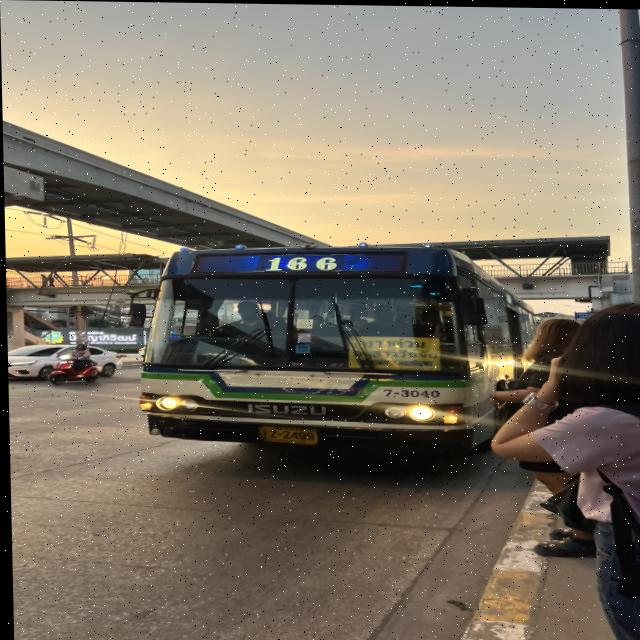BMTA-bus: (135, 244, 532, 457)
Bus Line Number: (258, 252, 346, 273)
Bus Side Number: (376, 386, 443, 399)
Destination Sign: (346, 336, 438, 367)
